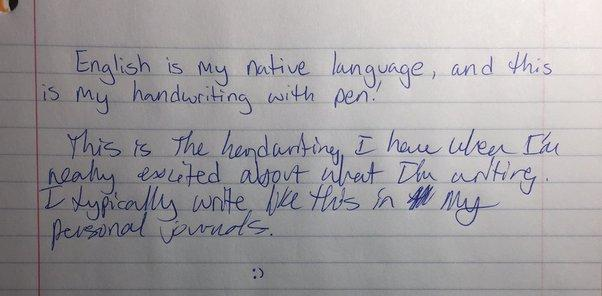text: (45, 155, 550, 197), (33, 183, 503, 227), (65, 126, 562, 167), (73, 48, 553, 90), (40, 78, 383, 118), (46, 208, 275, 254), (249, 266, 266, 281)
